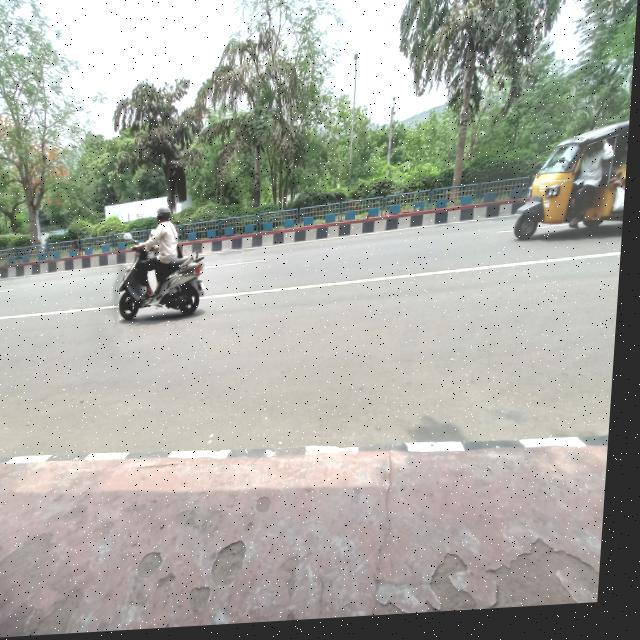bike: (121, 238, 207, 323)
